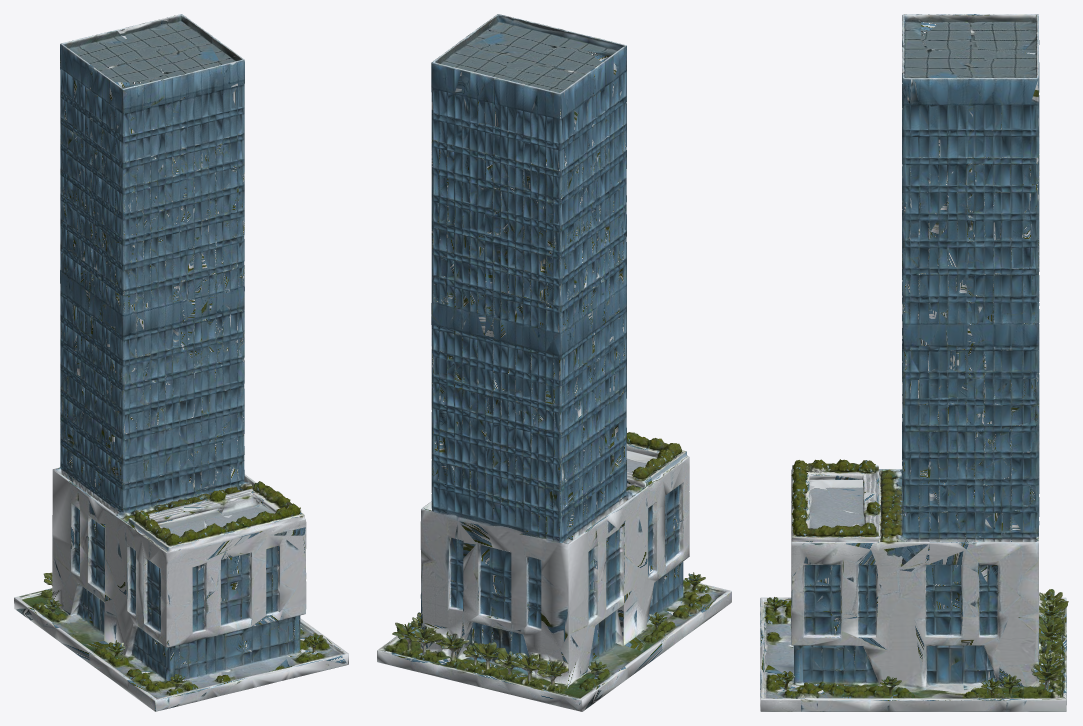
The model's file is office.glb.
3 views of the same model, side by side, from view 1: azimuth 30°, elevation 25°; view 2: azimuth 150°, elevation 25°; view 3: azimuth 270°, elevation 25° (orthographic). The views are drawn at different scales.
Size of the model in its own units: 0.6825 by 1.9 by 0.8677.
1 material, 1 textured.
